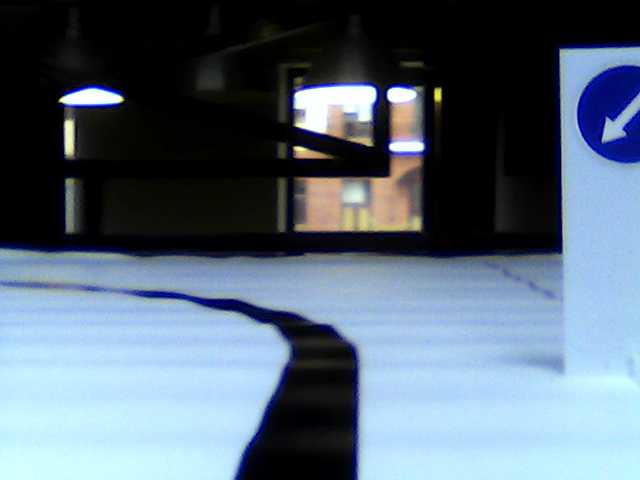prep: (574, 61, 640, 163)
